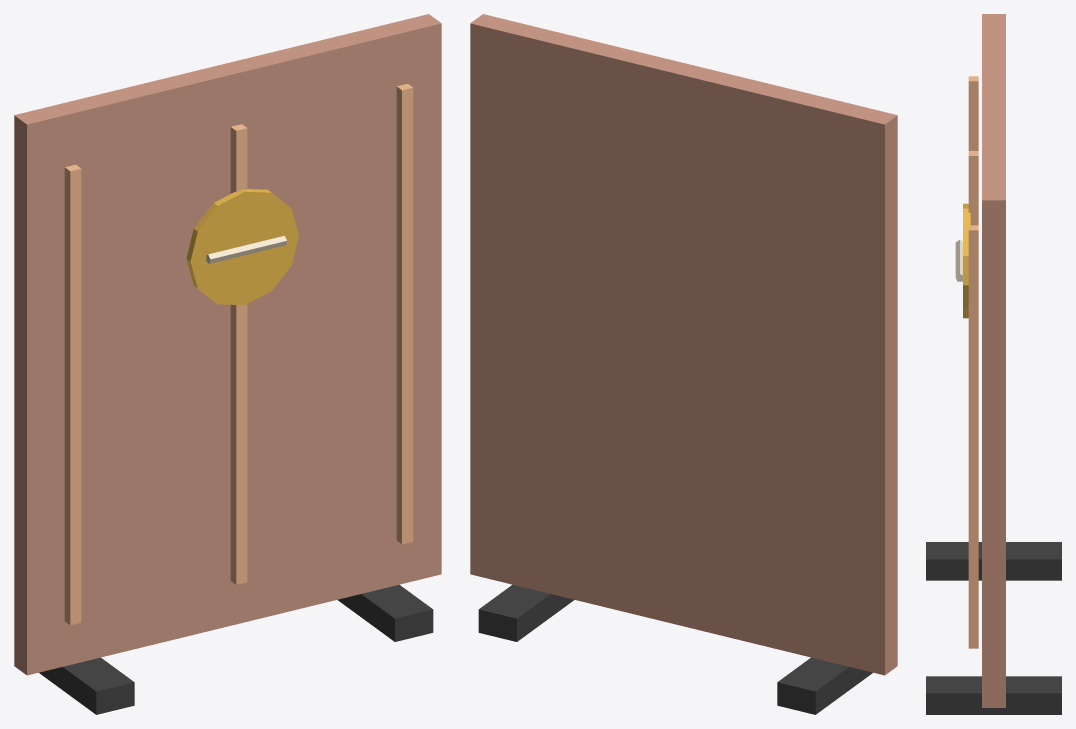
3 renders of one model, left to right at view 1: azimuth 30°, elevation 25°; view 2: azimuth 150°, elevation 25°; view 3: azimuth 270°, elevation 25°, orthographic. The views are drawn at different scales.
Parts seen in each view (by area): view 1: Panel, Abstract circular medallion, Wood molding, Wood molding.002, Wood molding.001, Panel foot.001, Panel foot, Balanced motif; view 2: Panel, Panel foot.001, Panel foot; view 3: Panel, Wood molding.002, Panel foot.001, Panel foot, Wood molding, Wood molding.001, Abstract circular medallion, Balanced motif.
Boxes of the visible parts, x1,y1,x2,y2 form: Panel: (14, 14, 441, 675); Abstract circular medallion: (186, 189, 298, 305); Wood molding: (64, 164, 81, 625); Wood molding.002: (396, 83, 413, 544); Wood molding.001: (230, 124, 247, 584); Panel foot.001: (337, 584, 433, 641); Panel foot: (39, 657, 134, 714); Balanced motif: (206, 236, 286, 263); Panel: (470, 14, 897, 675); Panel foot.001: (478, 584, 574, 641); Panel foot: (777, 657, 872, 714); Panel: (982, 14, 1005, 707); Wood molding.002: (968, 225, 978, 648); Panel foot.001: (926, 676, 1061, 714); Panel foot: (926, 542, 1061, 580); Wood molding: (968, 76, 978, 150); Wood molding.001: (968, 151, 978, 225); Abstract circular medallion: (963, 203, 970, 318); Balanced motif: (955, 239, 962, 281).
Bounding box in the file's own units: 130 × 173 × 40.
